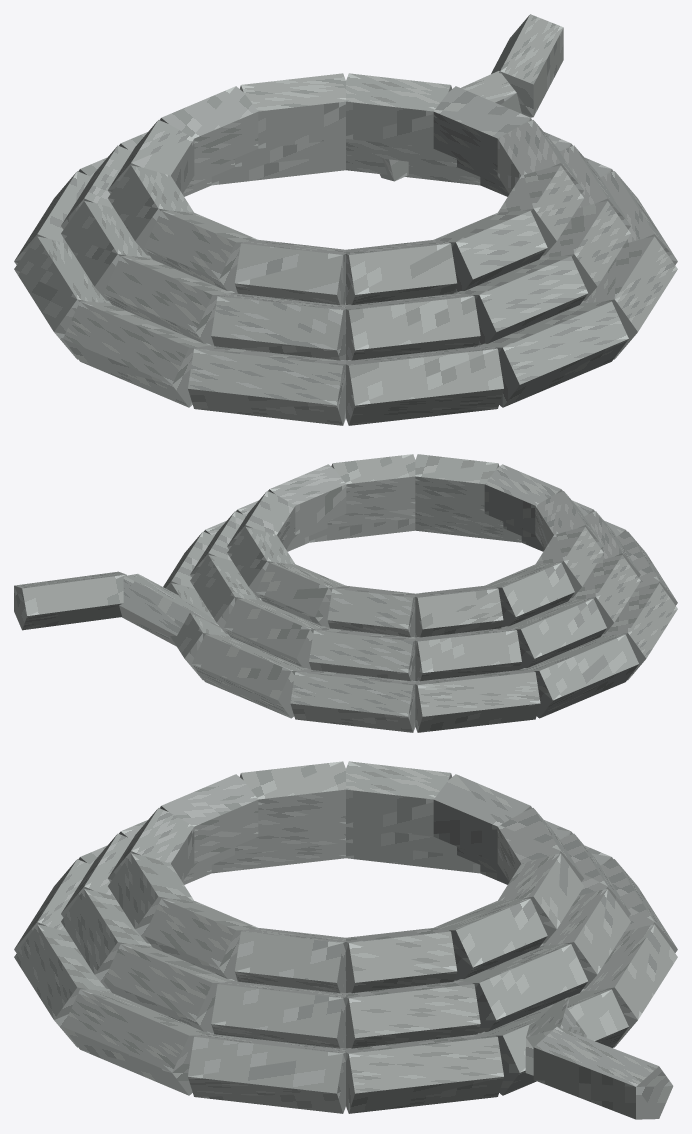
The model's file is grass_yarn.glb.
The picture shows the model from 3 angles, top to bottom: view 1: azimuth 30°, elevation 25°; view 2: azimuth 150°, elevation 25°; view 3: azimuth 270°, elevation 25°; orthographic projection. The views are drawn at different scales.
Visible parts, largest first — view 1: block_coil 03, block_coil 04, block_coil 02, block_coil 05, block_coil 13, block_coil 14, block_coil 12, block_coil 15, block_coil 29, block_coil 210, block_coil 23, block_coil 24 (+24 smaller); view 2: block_coil 08, block_coil 07, block_coil 06, block_coil 09, block_loose end 1, block_coil 18, block_coil 17, block_coil 19, block_coil 16, block_coil 21, block_coil 22, block_coil 28 (+22 smaller); view 3: block_coil 00, block_coil 011, block_coil 01, block_loose end 1, block_coil 10, block_coil 111, block_coil 11, block_coil 110, block_coil 25, block_coil 26, block_coil 20, block_coil 211 (+24 smaller).
Part boxes in pixels (x1=…): block_coil 03: x1=346, y1=345, x2=503, y2=425; block_coil 04: x1=188, y1=345, x2=345, y2=425; block_coil 02: x1=481, y1=301, x2=628, y2=407; block_coil 05: x1=63, y1=301, x2=210, y2=407; block_coil 13: x1=346, y1=292, x2=480, y2=360; block_coil 14: x1=211, y1=292, x2=345, y2=360; block_coil 12: x1=457, y1=256, x2=588, y2=345; block_coil 15: x1=103, y1=256, x2=234, y2=345; block_coil 29: x1=240, y1=73, x2=345, y2=148; block_coil 210: x1=346, y1=73, x2=451, y2=148; block_coil 23: x1=346, y1=240, x2=457, y2=304; block_coil 24: x1=234, y1=240, x2=345, y2=304; block_coil 08: x1=290, y1=669, x2=415, y2=732; block_coil 07: x1=415, y1=669, x2=540, y2=732; block_coil 06: x1=522, y1=634, x2=638, y2=718; block_coil 09: x1=192, y1=634, x2=308, y2=718; block_loose end 1: x1=14, y1=571, x2=126, y2=630; block_coil 18: x1=309, y1=627, x2=415, y2=681; block_coil 17: x1=415, y1=627, x2=521, y2=681; block_coil 19: x1=224, y1=598, x2=326, y2=669; block_coil 16: x1=504, y1=598, x2=606, y2=669; block_coil 21: x1=331, y1=454, x2=415, y2=513; block_coil 22: x1=415, y1=454, x2=499, y2=513; block_coil 28: x1=327, y1=585, x2=415, y2=637; block_coil 00: x1=188, y1=1033, x2=345, y2=1113; block_coil 011: x1=346, y1=1033, x2=503, y2=1113; block_coil 01: x1=63, y1=989, x2=210, y2=1095; block_loose end 1: x1=533, y1=1026, x2=673, y2=1119; block_coil 10: x1=211, y1=980, x2=345, y2=1048; block_coil 111: x1=346, y1=980, x2=480, y2=1048; block_coil 11: x1=103, y1=944, x2=234, y2=1033; block_coil 110: x1=457, y1=944, x2=588, y2=1033; block_coil 25: x1=240, y1=761, x2=345, y2=836; block_coil 26: x1=346, y1=761, x2=451, y2=836; block_coil 20: x1=234, y1=928, x2=345, y2=993; block_coil 211: x1=346, y1=928, x2=457, y2=993.
Bounding box in the file's own units: 0.1121 × 0.0216 × 0.0992.
1 material, 1 textured.
